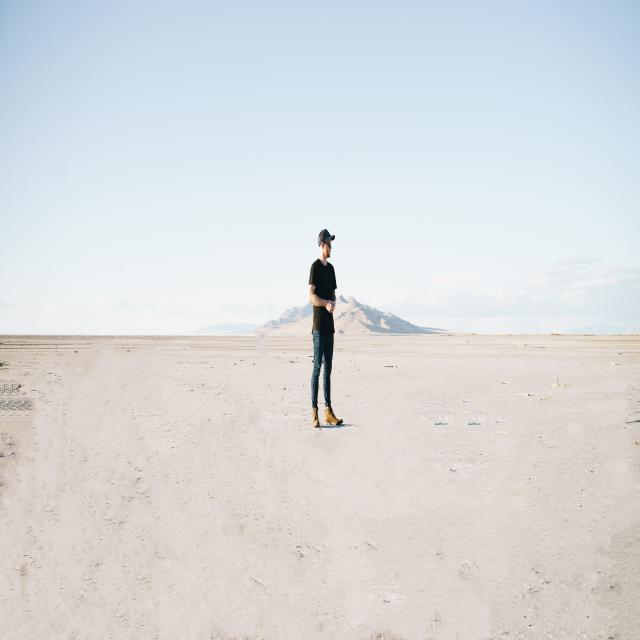standing: (309, 228, 346, 429)
